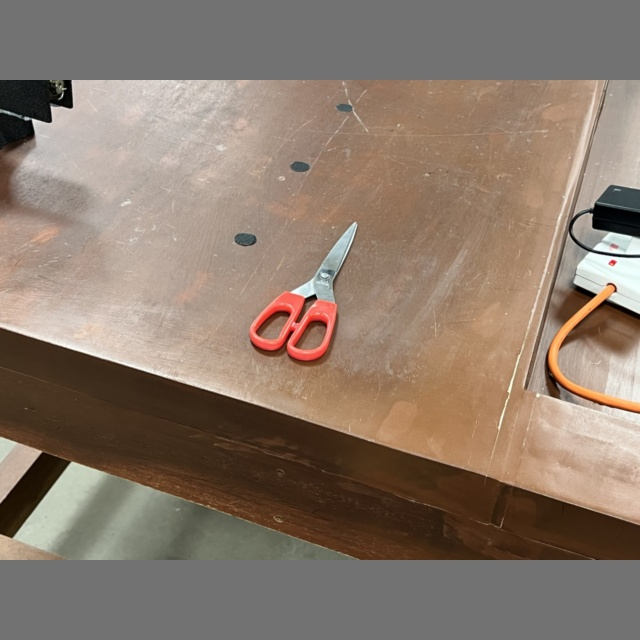scissor: (250, 222, 358, 362)
